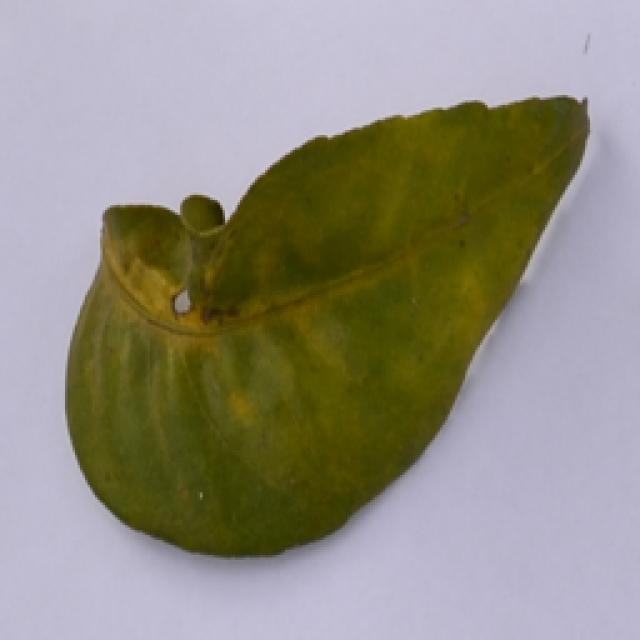greening: (56, 82, 606, 569)
